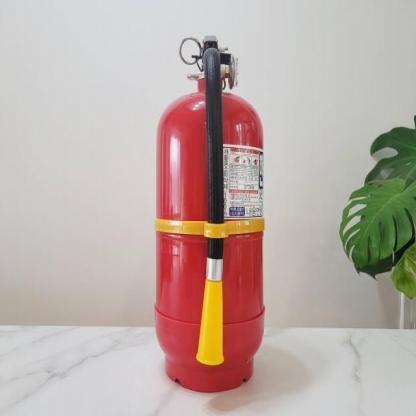Fire Extinguisher: (130, 24, 293, 407)
